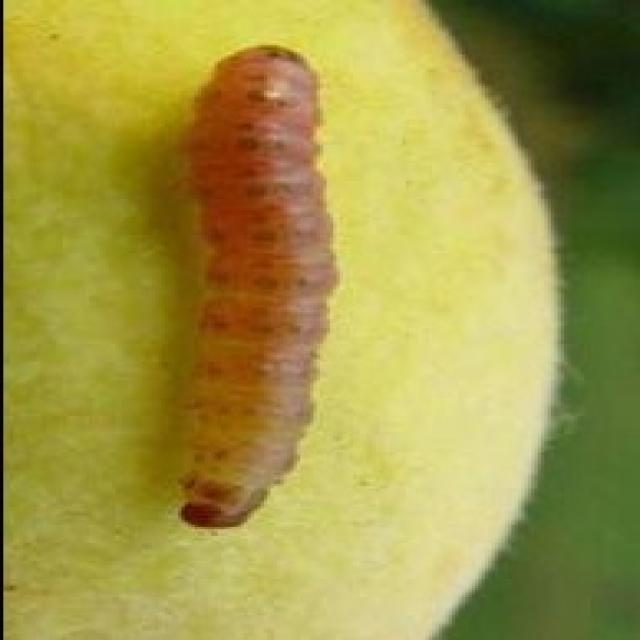peach borer: (173, 37, 344, 544)
